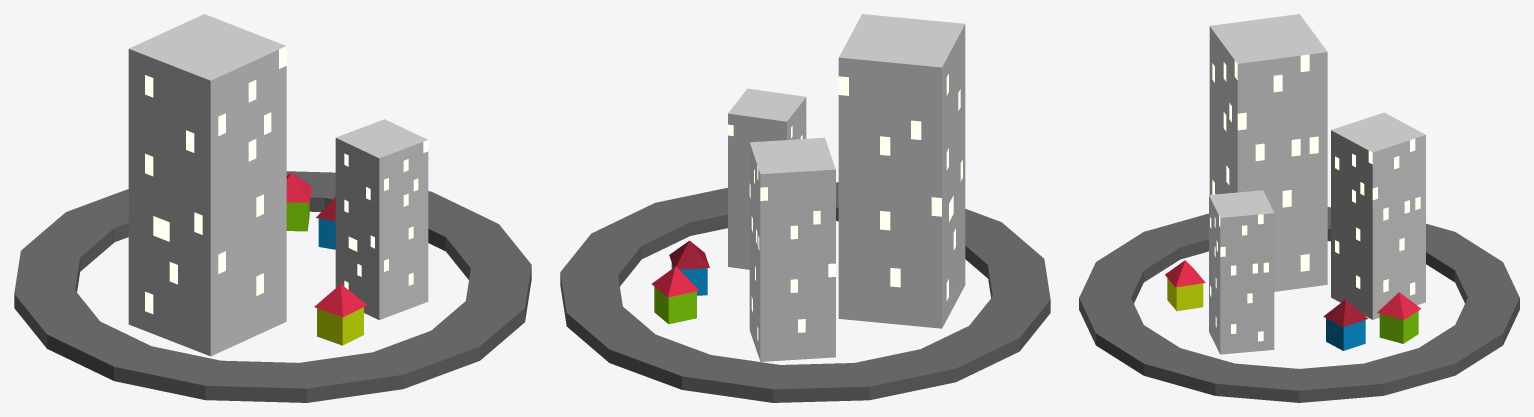
Rendered from test_city6.fbx.
3 renders of one model, left to right at view 1: azimuth 30°, elevation 25°; view 2: azimuth 150°, elevation 25°; view 3: azimuth 270°, elevation 25°, orthographic. The views are drawn at different scales.
Parts seen in each view (by area): view 1: skyscraper.002, street, skyscraper.001, house, roof, house.002, roof.002, house.001; view 2: skyscraper.002, street, skyscraper, skyscraper.001, house.002, roof.002, roof.001, house.001; view 3: street, skyscraper.002, skyscraper, skyscraper.001, house.002, house.001, house, roof.001, roof.002, roof.
Part boxes in pixels (x1,y1,x2,y2): skyscraper.002: (128,14,286,356); street: (14,171,531,402); skyscraper.001: (335,119,428,319); house: (317,307,363,345); roof: (314,284,367,317); house.002: (286,202,309,231); roof.002: (286,172,311,202); house.001: (318,218,335,249); skyscraper.002: (838,14,965,328); street: (560,182,1050,402); skyscraper: (749,137,835,361); skyscraper.001: (728,88,806,269); house.002: (654,286,696,324); roof.002: (652,266,699,297); roof.001: (669,240,709,269); house.001: (671,263,707,295); street: (1079,207,1519,402); skyscraper.002: (1209,14,1327,291); skyscraper: (1331,112,1425,319); skyscraper.001: (1209,190,1274,354); house.002: (1379,311,1418,343); house.001: (1326,318,1365,350); house: (1167,278,1203,310); roof.001: (1323,299,1367,327); roof.002: (1377,292,1420,319); roof: (1165,260,1205,287).
Size of the model in its own units: 86.3 by 51.9 by 86.3.
